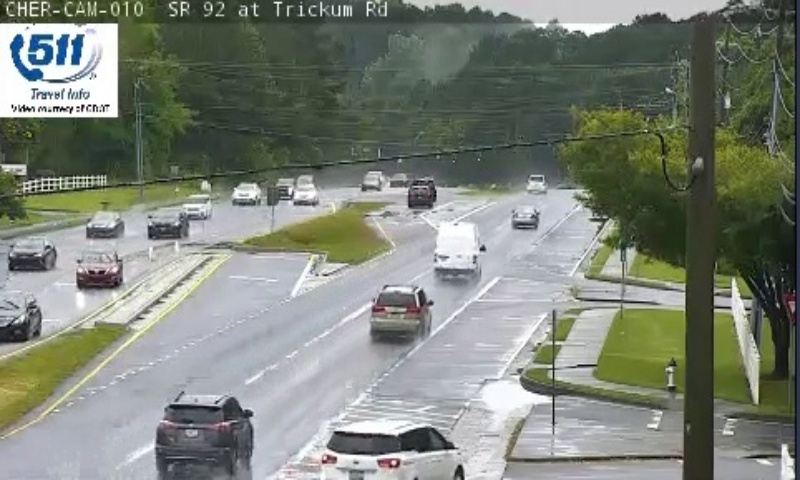car: (156, 396, 253, 463), (371, 286, 431, 335), (512, 207, 537, 227)
van: (434, 221, 479, 277)
